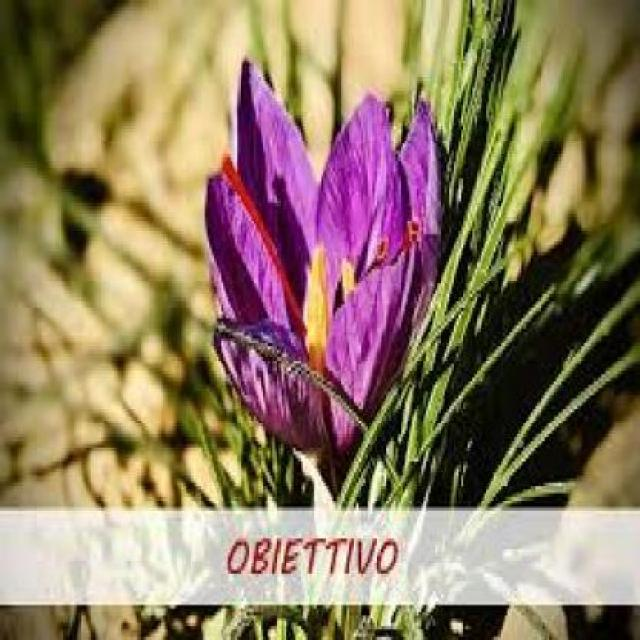saffron open: (206, 81, 443, 489)
